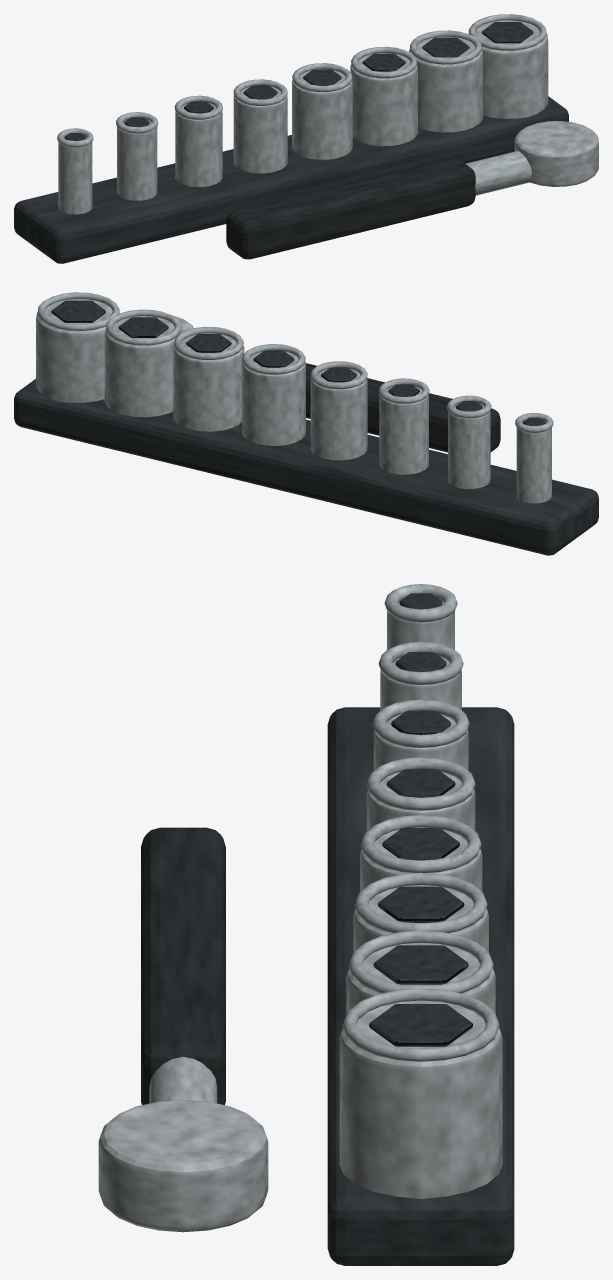
File: GR_SocketRail_04.glb
3 renders of one model, top to bottom at view 1: azimuth 30°, elevation 25°; view 2: azimuth 150°, elevation 25°; view 3: azimuth 270°, elevation 25°, orthographic. The views are drawn at different scales.
Parts seen in each view (by area): view 1: Static; view 2: Static; view 3: Static.
Part boxes in pixels (x1=…): Static: x1=14, y1=14, x2=598, y2=263; Static: x1=14, y1=292, x2=598, y2=555; Static: x1=98, y1=584, x2=514, y2=1265.
Size of the model in its own units: 0.35 by 0.0689 by 0.1225.
1 material, 1 textured.
